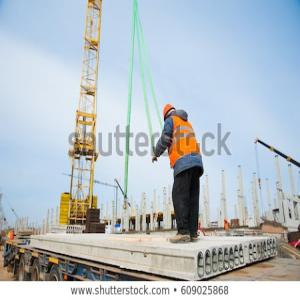yellow: (164, 105, 176, 122)
